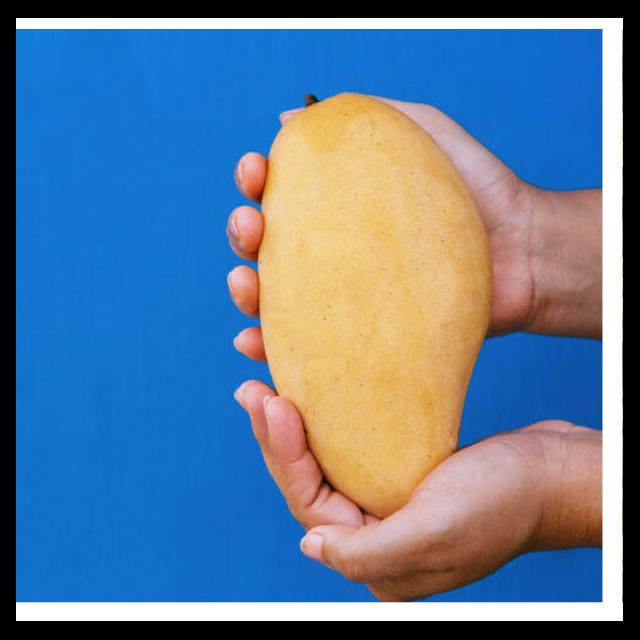mango: (260, 89, 491, 516)
